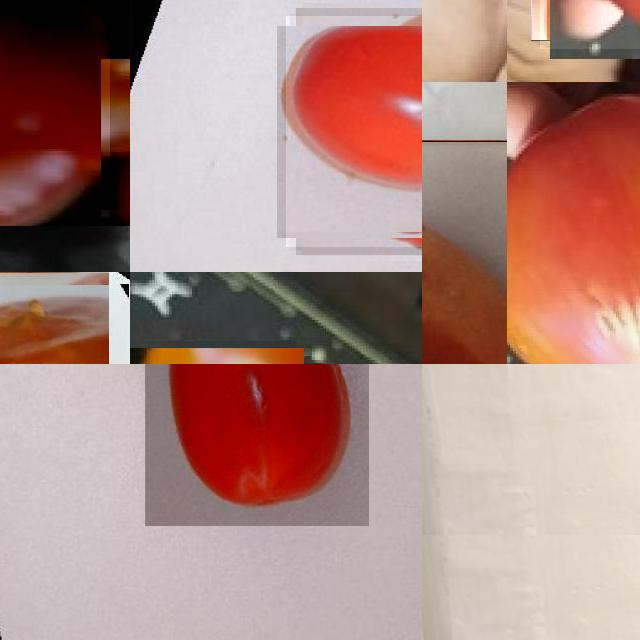0: (145, 364, 369, 526), (286, 16, 422, 247), (0, 0, 130, 226)
Rotten Tomato: (507, 82, 640, 364), (422, 140, 507, 364)
